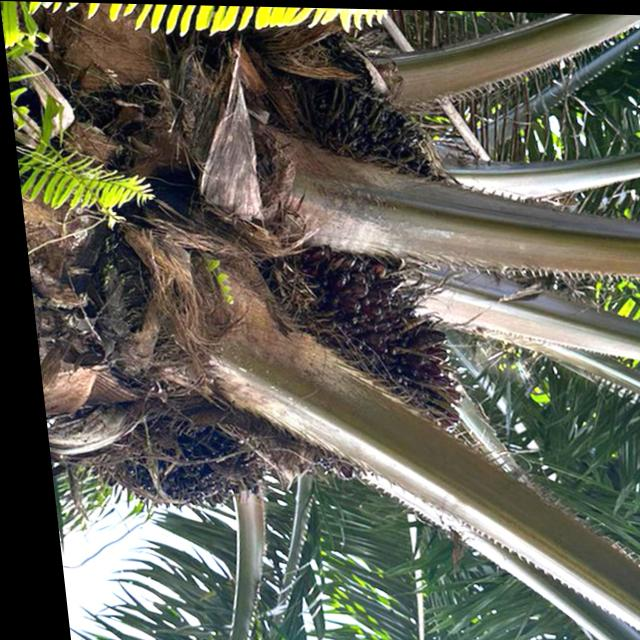ripe: (263, 238, 473, 446), (282, 45, 462, 189), (89, 410, 281, 507)
